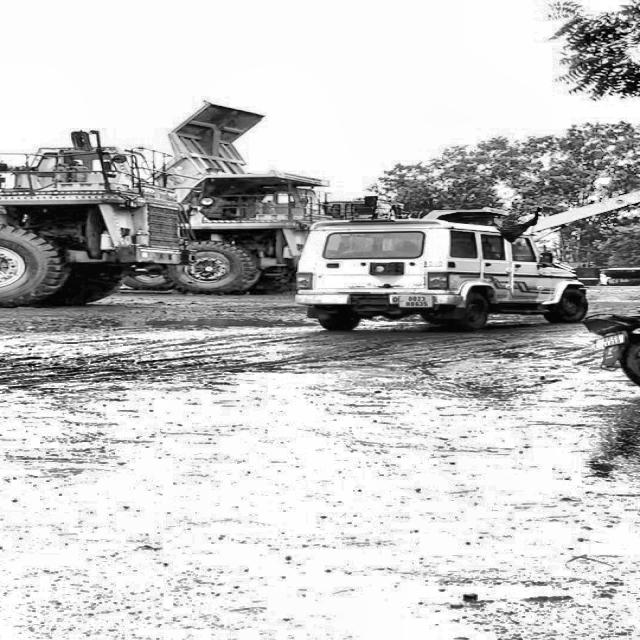dump_truck: (0, 0, 128, 309), (156, 92, 300, 284)
light_vehicle: (302, 212, 585, 331)
